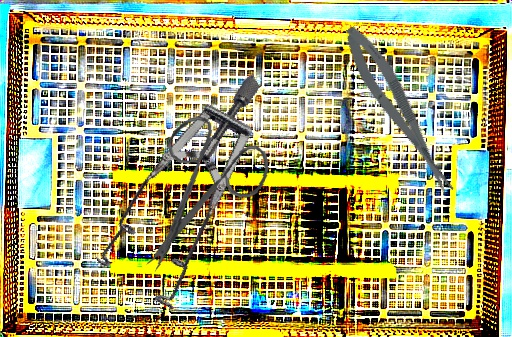Iris Scissors: (129, 108, 280, 275)
Micro Scissor: (336, 19, 461, 202)
Speculum: (53, 74, 331, 330)
